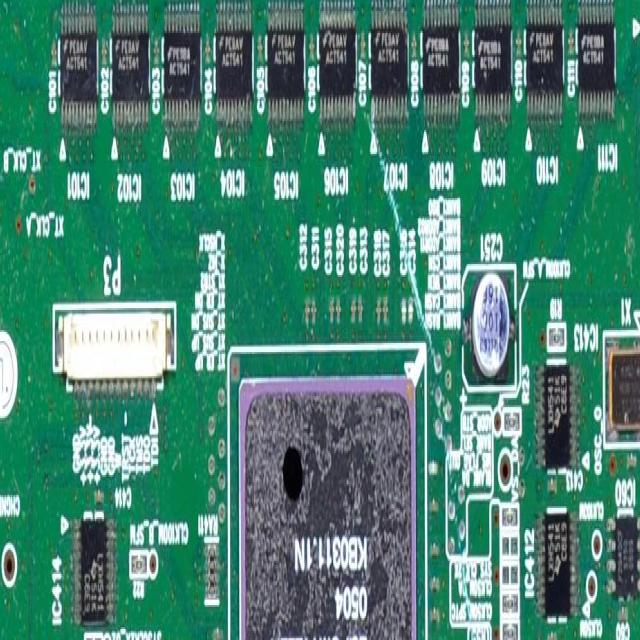IC: (229, 350, 426, 640), (573, 0, 620, 127), (470, 0, 517, 127), (210, 0, 255, 132), (534, 497, 580, 626), (520, 0, 567, 123), (159, 0, 203, 130), (57, 0, 102, 127), (533, 359, 580, 479), (109, 0, 152, 130), (70, 508, 116, 629), (316, 0, 360, 119), (264, 0, 306, 123), (422, 0, 463, 121), (370, 5, 410, 120), (602, 506, 640, 597)
capacitor: (466, 268, 514, 382), (373, 292, 382, 326), (428, 604, 441, 626), (383, 288, 390, 326), (428, 572, 440, 594), (303, 299, 312, 326), (428, 541, 441, 558), (311, 295, 318, 325), (328, 297, 335, 323), (350, 295, 357, 320), (429, 499, 439, 516), (336, 295, 342, 321), (212, 627, 224, 640), (356, 299, 364, 318)
connector: (57, 302, 174, 388)
resistor: (502, 405, 522, 441), (501, 502, 519, 532), (130, 554, 148, 578), (548, 326, 566, 349), (502, 589, 518, 613), (502, 621, 518, 640), (84, 636, 104, 640)
